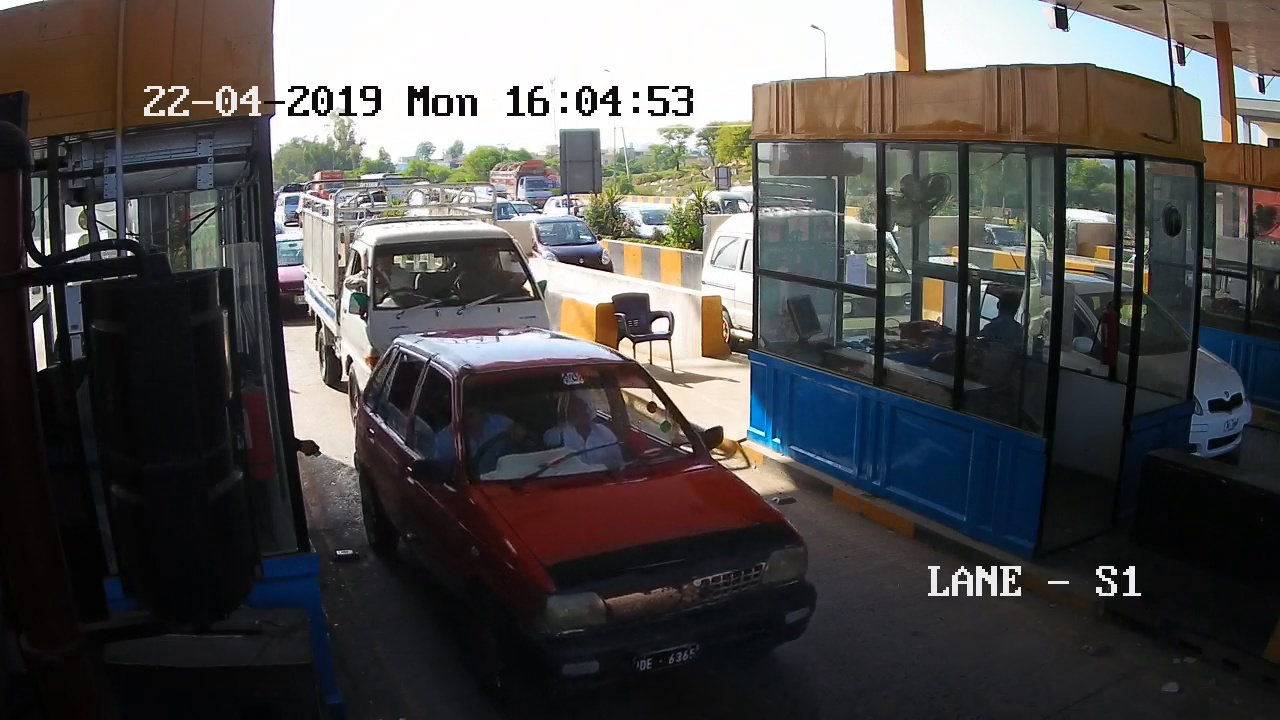Number Plate (Car): (629, 646, 699, 670)
